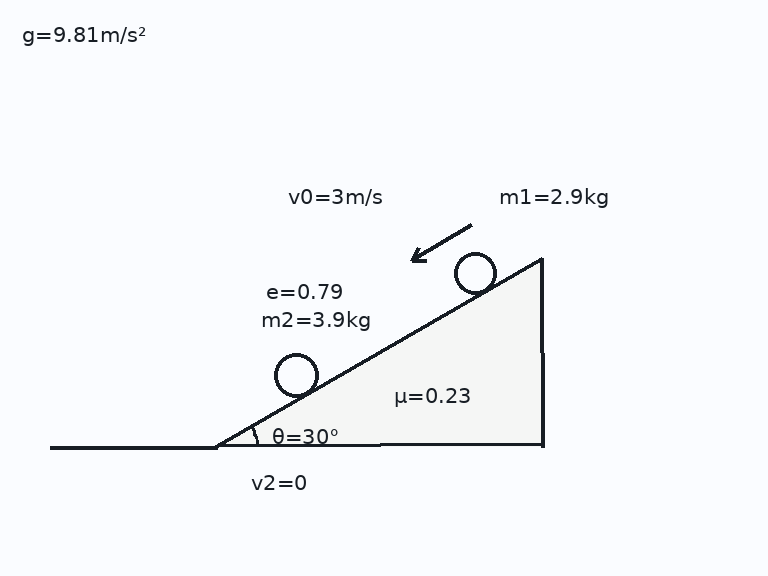ball: (272, 351, 320, 399), (452, 250, 498, 296)
ramp: (215, 256, 544, 448)
